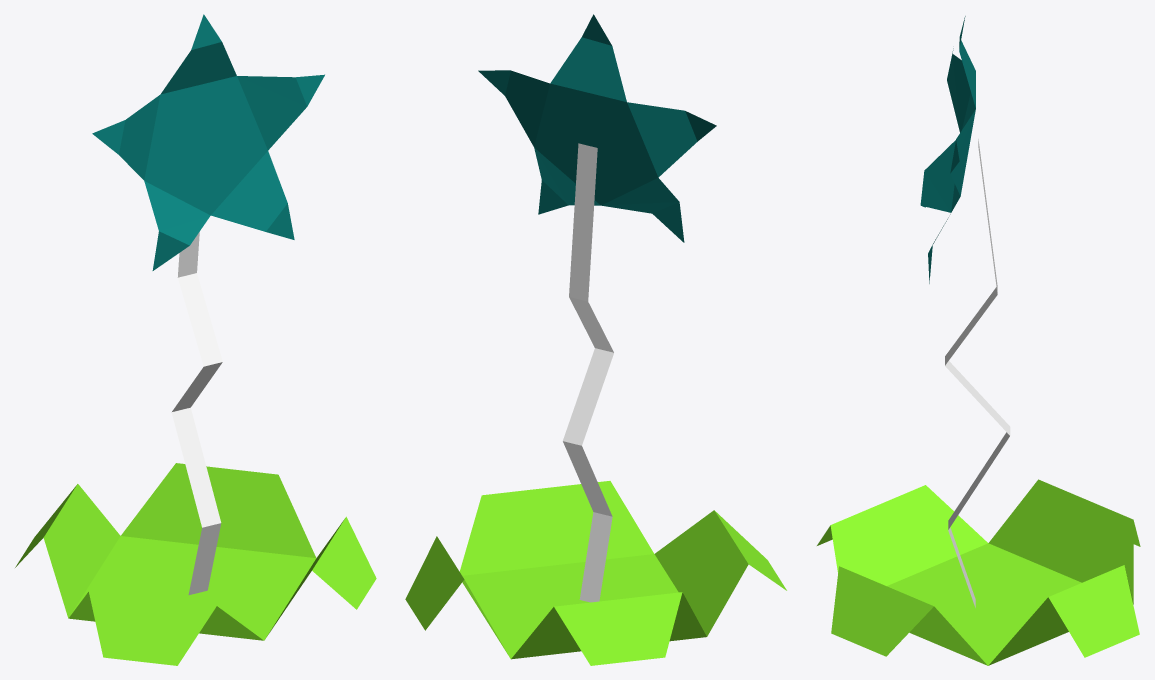
The model's file is star.FBX.
3 views of the same model, side by side, from view 1: azimuth 30°, elevation 25°; view 2: azimuth 150°, elevation 25°; view 3: azimuth 270°, elevation 25° (orthographic).
Parts seen in each view (by area): view 1: star_base001, Star, star_stem001; view 2: star_base001, Star, star_stem001; view 3: star_base001, Star, star_stem001.
Boxes of the visible parts, box(x1,y1,x2,y2) form: star_base001: box(15, 463, 376, 665); Star: box(92, 14, 324, 270); star_stem001: box(171, 232, 222, 594); star_base001: box(405, 481, 786, 665); Star: box(478, 14, 716, 242); star_stem001: box(563, 143, 613, 602); star_base001: box(817, 479, 1140, 665); Star: box(920, 16, 975, 283); star_stem001: box(945, 139, 1010, 607).
Size of the model in its own units: 1599 by 3199 by 1578.
